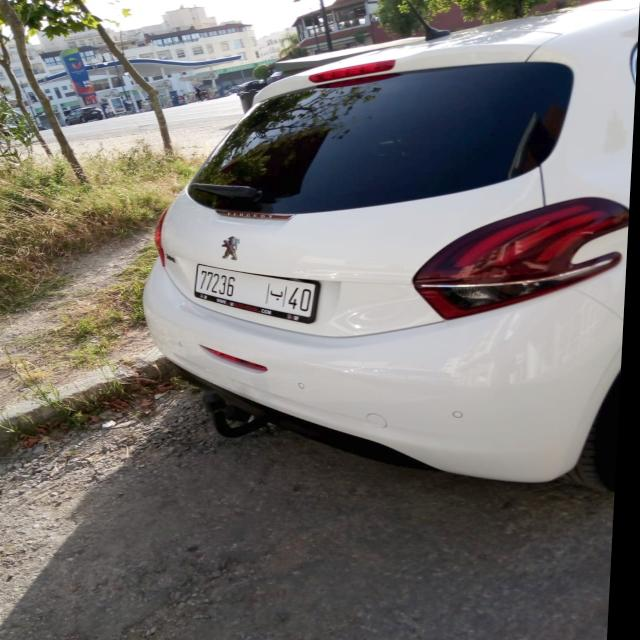License-Plate: (199, 265, 320, 318)
